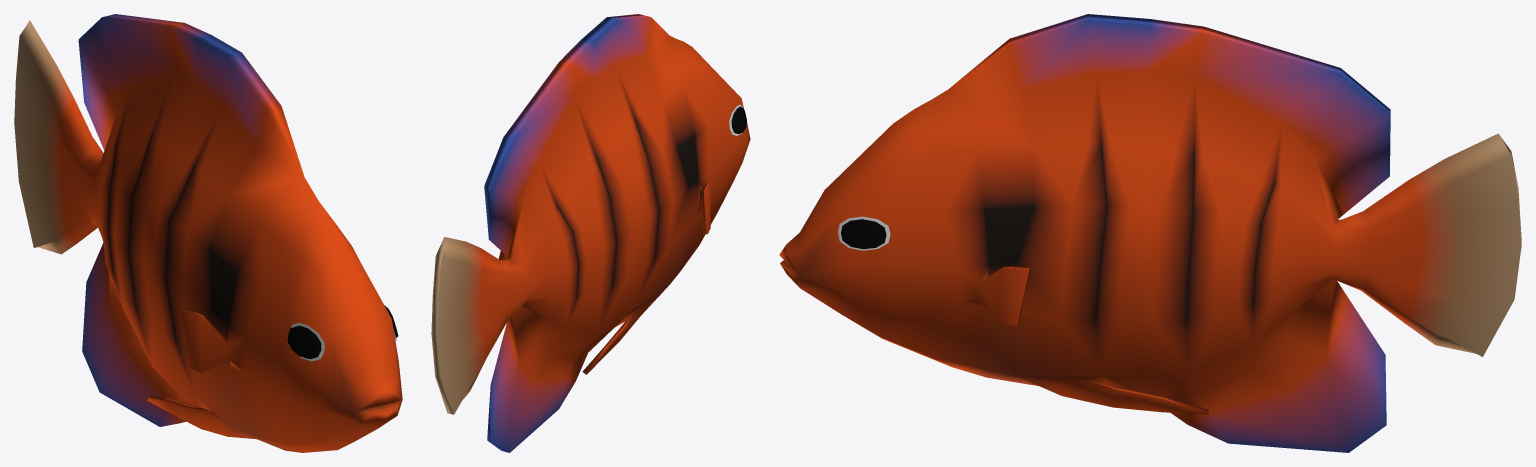
Rendered from underwater-fish-angelfish_v3.glb.
3 renders of one model, left to right at view 1: azimuth 30°, elevation 25°; view 2: azimuth 150°, elevation 25°; view 3: azimuth 270°, elevation 25°, orthographic. The views are drawn at different scales.
Parts seen in each view (by area): view 1: Angelfish_v3; view 2: Angelfish_v3; view 3: Angelfish_v3.
Boxes of the visible parts, box(x1,y1,x2,y2) form: Angelfish_v3: box(14, 14, 402, 452); Angelfish_v3: box(431, 14, 750, 452); Angelfish_v3: box(779, 14, 1521, 452).
Bounding box in the file's own units: 0.0264 × 0.0643 × 0.1.
